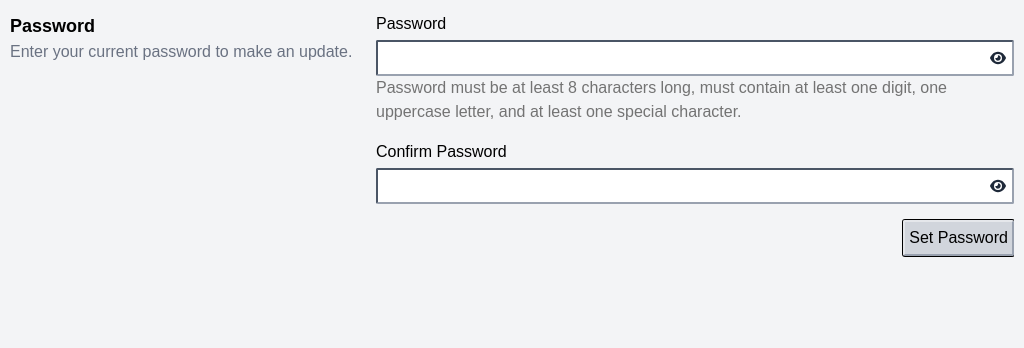
Test: Change/Set Password Form › should show an error in the set password form if passwords do not match
Type "Password1234!" into the password field with test id "set-password_input-password_password" at {"x": 695, "y": 58}, box [376,40,1014,76]
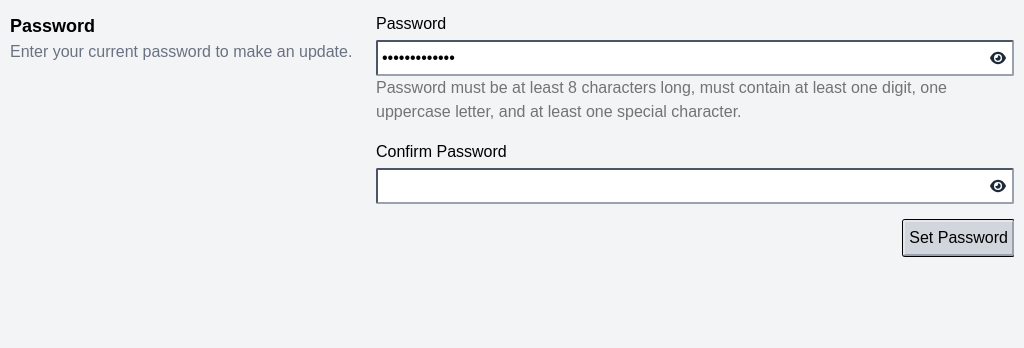
Type "Password12345!" into the password field with test id "set-password_input-password_confirm-password" at {"x": 695, "y": 186}, box [376,168,1014,204]
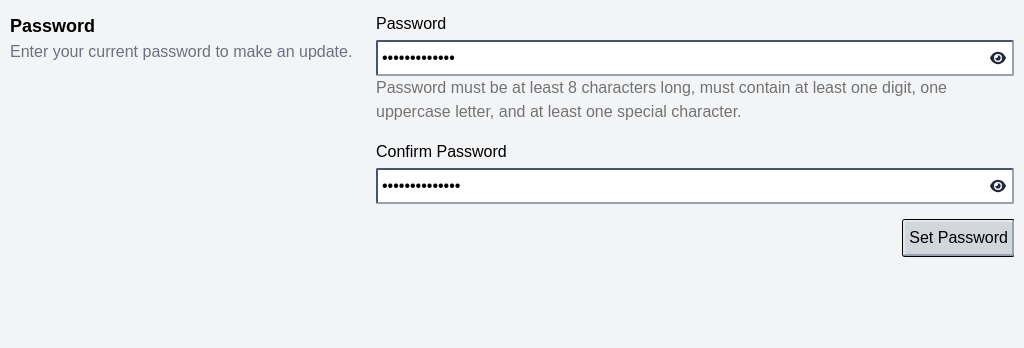
Click the button "Set Password" at {"x": 959, "y": 238}, box [903,220,1014,256]
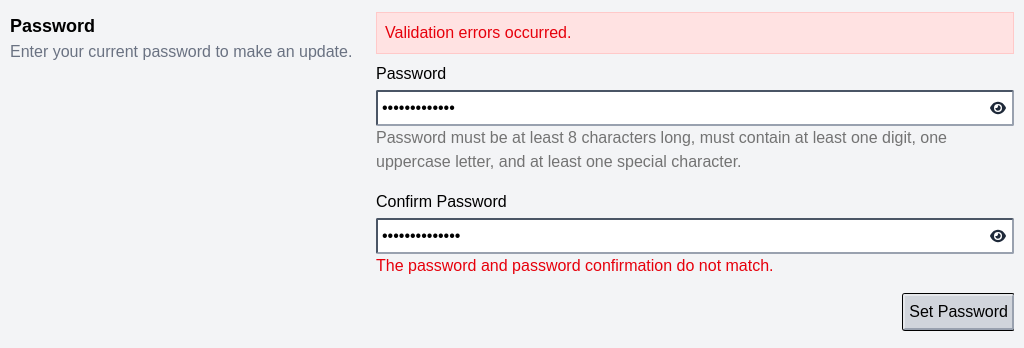
Result: the text "The password and password confirmation do not match." is shown at [376,257,774,274]
